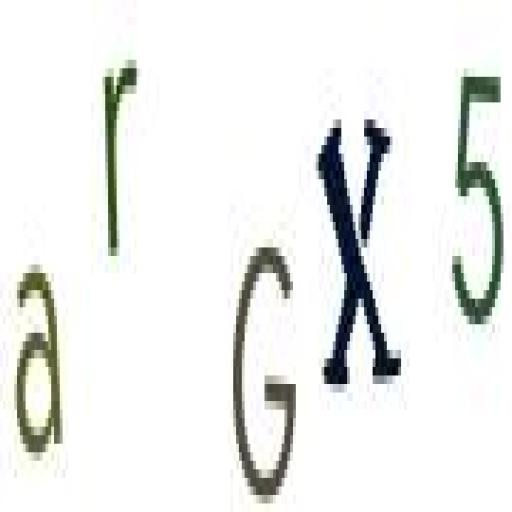5: (449, 51, 510, 349)
G: (223, 228, 299, 512)
X: (318, 96, 412, 401)
a: (11, 253, 68, 474)
r: (98, 40, 140, 264)
